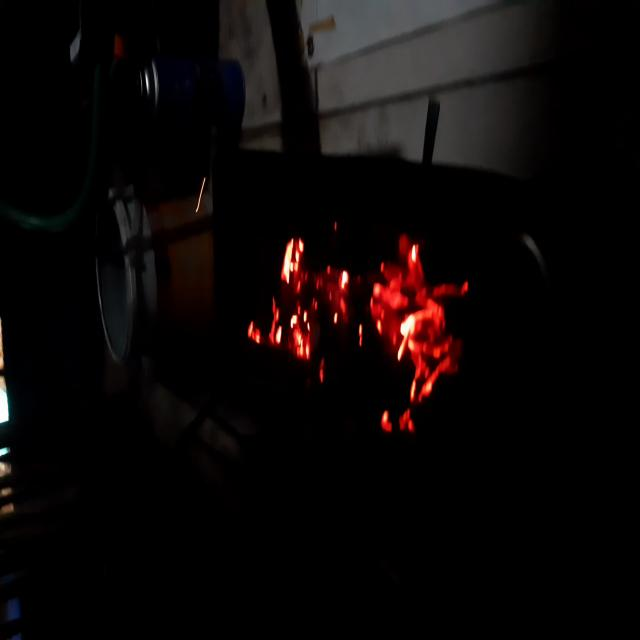Fire: (238, 213, 474, 449)
